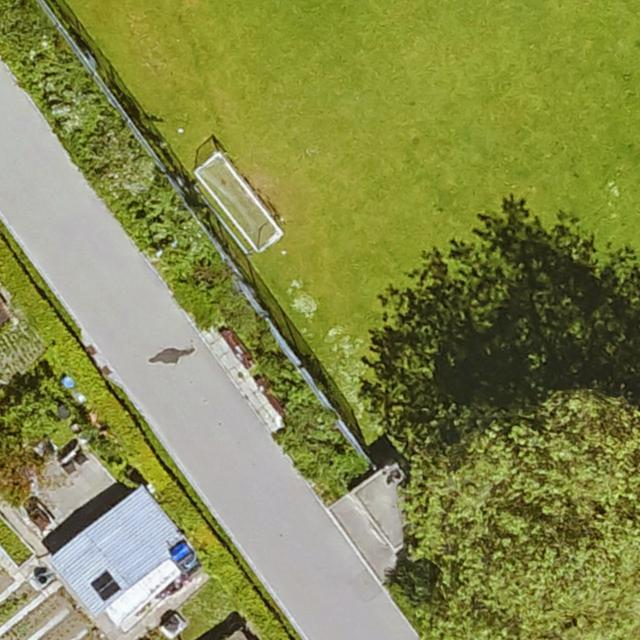tree: (393, 393, 640, 640), (3, 379, 56, 445), (0, 442, 35, 500)
